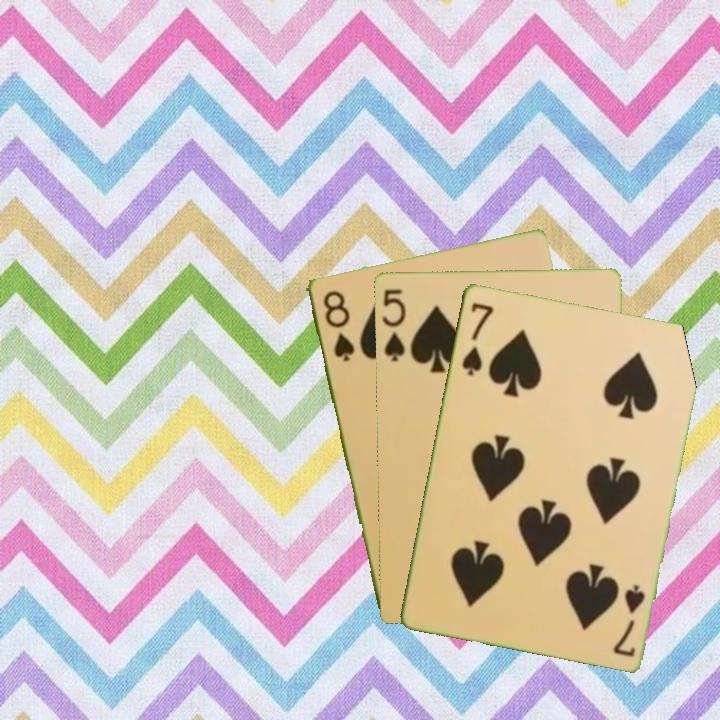5s: (378, 285, 408, 364)
7s: (457, 298, 496, 378), (609, 580, 648, 659)
8s: (319, 286, 357, 364)
